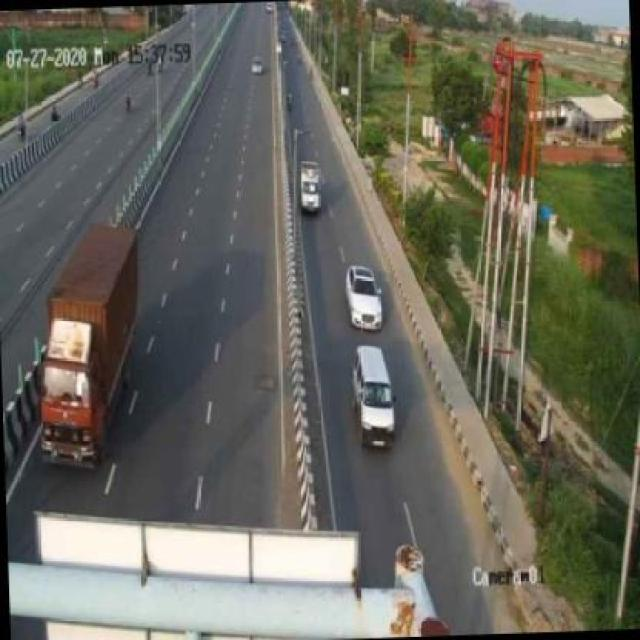car: (354, 350, 400, 456), (338, 258, 391, 337), (298, 154, 331, 218)
